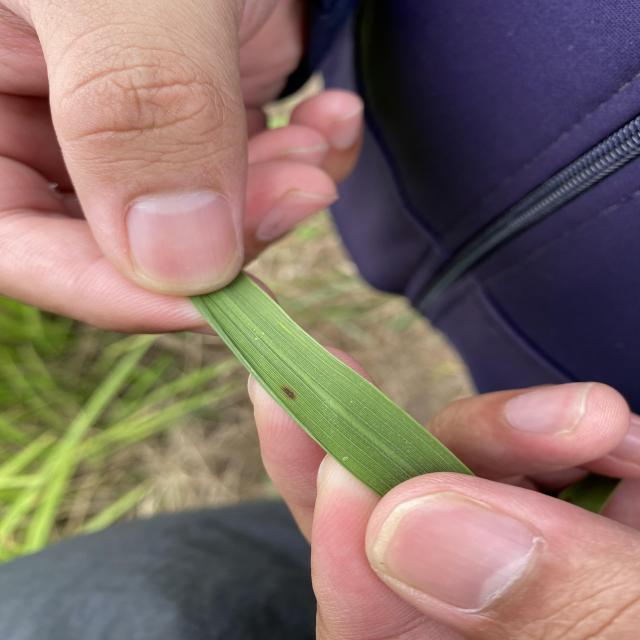Dom nau: (280, 384, 298, 402)
